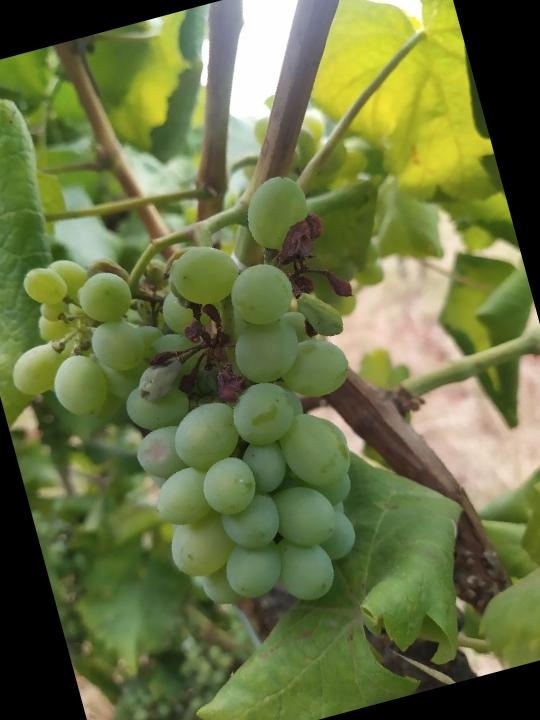grape: (0, 162, 431, 664)
